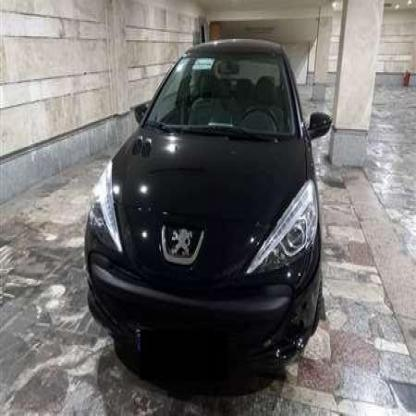Car: (83, 40, 326, 361)
